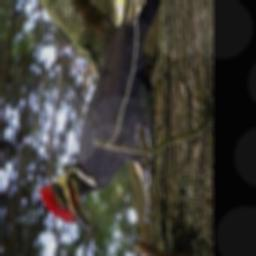Woodpecker: (37, 0, 166, 237)
